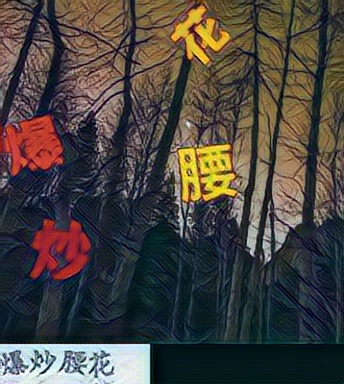B1AC: (1, 113, 68, 177)
B3B4: (28, 218, 95, 282)
BBA8: (167, 4, 234, 68)
D1FC: (174, 141, 241, 205)
